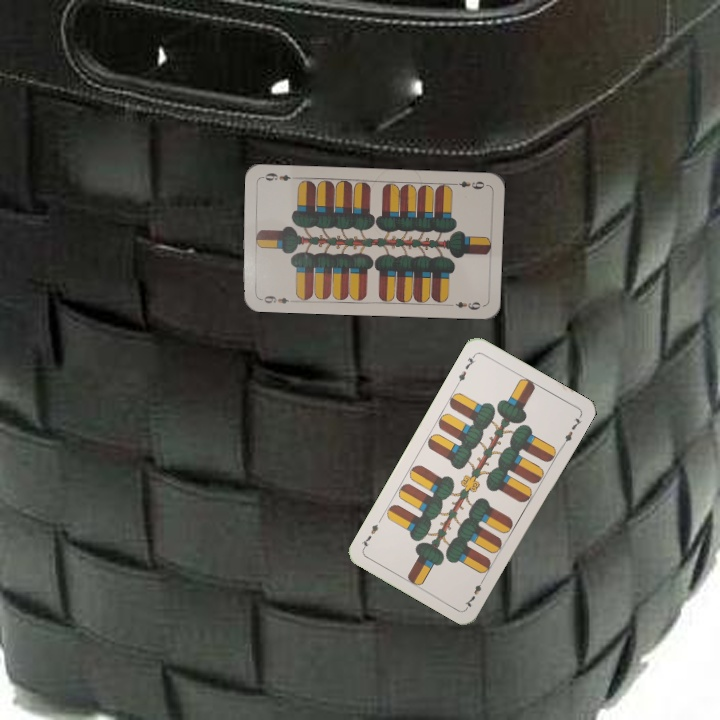E7: (461, 573, 488, 610), (452, 350, 478, 388)
E9: (448, 177, 489, 192), (255, 292, 296, 306)
